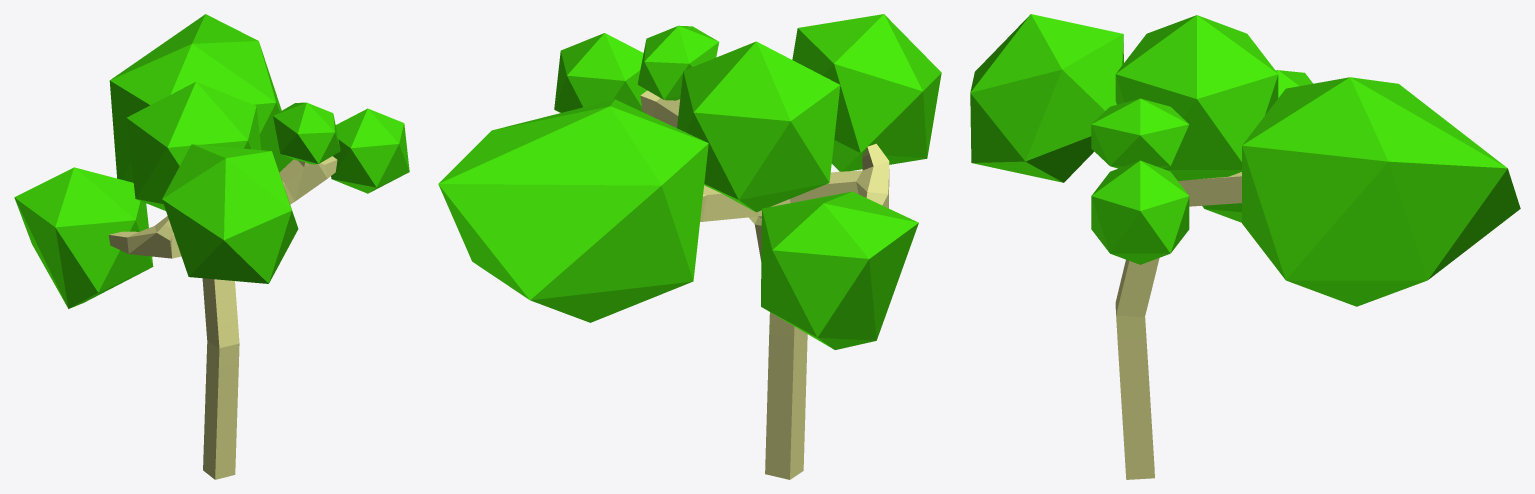
File: low_poly_tree_2.fbx
The picture shows the model from 3 angles, left to right: view 1: azimuth 30°, elevation 25°; view 2: azimuth 150°, elevation 25°; view 3: azimuth 270°, elevation 25°; orthographic projection. The views are drawn at different scales.
Visible parts, largest first — view 1: Icosphere.002, Icosphere.001, Cube, Icosphere.003, Icosphere; view 2: Icosphere.002, Icosphere.003, Icosphere.001, Cube, Icosphere; view 3: Icosphere.002, Icosphere.001, Icosphere.003, Icosphere, Cube.
Part boxes in pixels (x1,y1,x2,y2): Icosphere.002: (14,14,293,308); Icosphere.001: (162,144,298,283); Cube: (108,156,337,479); Icosphere.003: (126,82,261,210); Icosphere: (273,102,409,193); Icosphere.002: (438,99,918,349); Icosphere.003: (677,41,840,212); Icosphere.001: (792,14,941,171); Cube: (640,90,889,479); Icosphere: (554,25,719,113); Icosphere.002: (1202,70,1520,306); Icosphere.001: (970,14,1123,182); Icosphere.003: (1115,15,1278,180); Icosphere: (1091,98,1189,264); Cube: (1115,172,1241,479).
Size of the model in its own units: 792 by 878 by 955.
